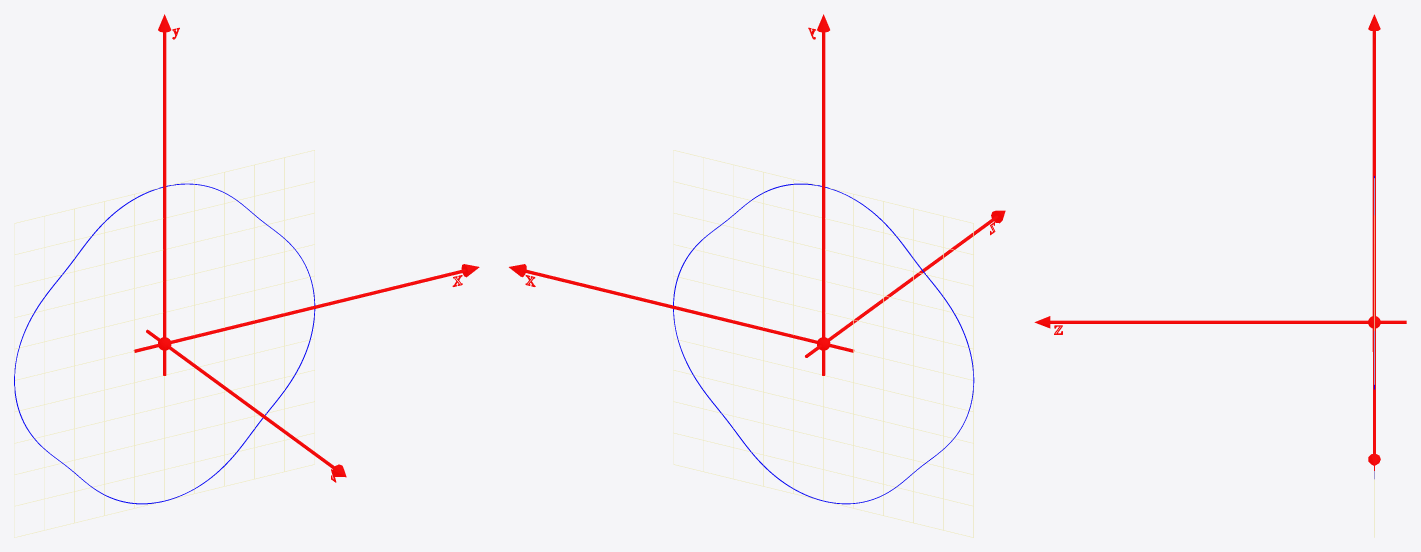
3 renders of one model, left to right at view 1: azimuth 30°, elevation 25°; view 2: azimuth 150°, elevation 25°; view 3: azimuth 270°, elevation 25°, orthographic. The views are drawn at different scales.
Size of the model in its own units: 1.55 by 1.55 by 1.15.
